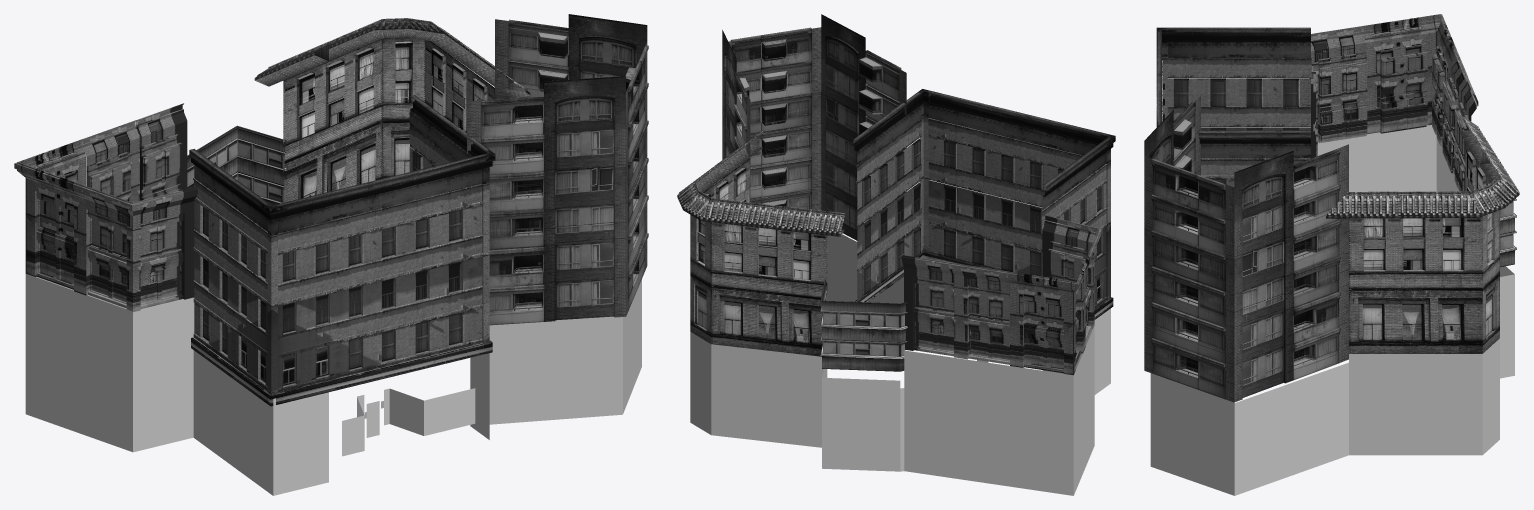
File: chiantown_block_1.fbx
3 renders of one model, left to right at view 1: azimuth 30°, elevation 25°; view 2: azimuth 150°, elevation 25°; view 3: azimuth 270°, elevation 25°, orthographic. The views are drawn at different scales.
Parts seen in each view (by area): view 1: ruby_palace_building, greyblock_wall, chinatown_building_1, chinatown_building_4, chinatown_building_2, windows, chinatown_building_3; view 2: greyblock_wall, ruby_palace_building, chinatown_building_1, chinatown_building_2, chinatown_building_4, chinatown_building_3; view 3: chinatown_building_1, greyblock_wall, chinatown_building_2, ruby_palace_building, chinatown_building_4, chinatown_building_3.
Part boxes in pixels (<box>): ruby_palace_building: <box>189,95,495,406</box>; greyblock_wall: <box>25,274,641,495</box>; chinatown_building_1: <box>467,14,648,325</box>; chinatown_building_4: <box>14,103,197,312</box>; chinatown_building_2: <box>254,18,530,202</box>; windows: <box>342,388,475,456</box>; chinatown_building_3: <box>187,125,286,205</box>; greyblock_wall: <box>690,234,1110,495</box>; ruby_palace_building: <box>853,89,1115,319</box>; chinatown_building_1: <box>722,14,906,240</box>; chinatown_building_2: <box>677,131,844,356</box>; chinatown_building_4: <box>902,215,1101,375</box>; chinatown_building_3: <box>820,280,907,371</box>; chinatown_building_1: <box>1144,96,1348,402</box>; greyblock_wall: <box>1150,124,1514,495</box>; chinatown_building_2: <box>1326,113,1519,353</box>; ruby_palace_building: <box>1156,27,1311,186</box>; chinatown_building_4: <box>1307,14,1478,191</box>; chinatown_building_3: <box>1500,198,1516,267</box>.
Bounding box in the file's own units: 3840 × 2386 × 2491.
